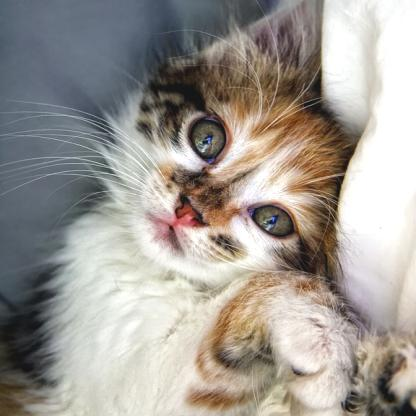cat: (54, 27, 357, 415)
